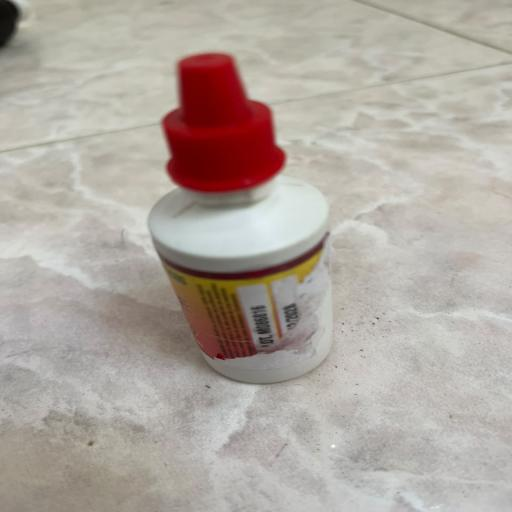HDPE: (113, 55, 409, 408)
